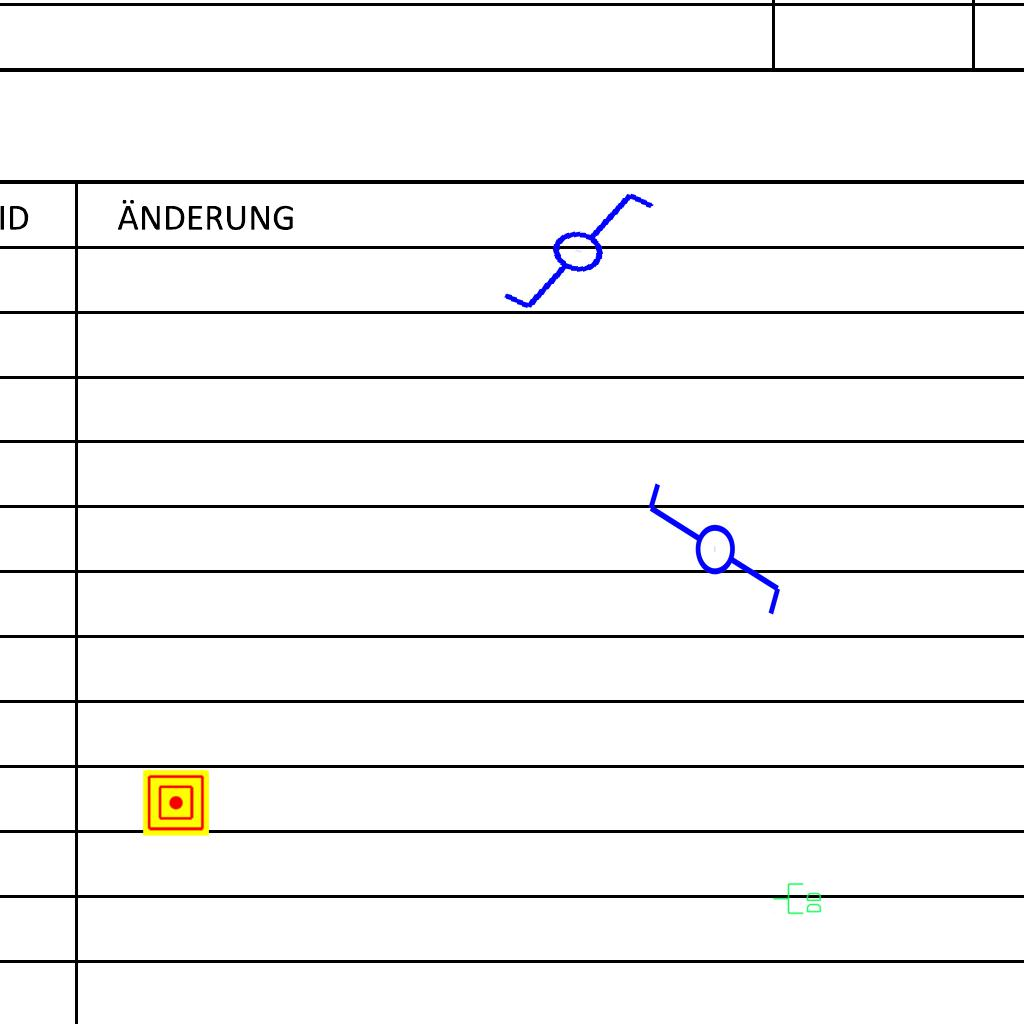Datenanschluss_zweifach: (772, 882, 823, 916)
NAM-Nichtautomatischer_Melder: (143, 770, 209, 836)
Wechselschalter: (480, 163, 661, 333), (641, 479, 785, 636)
